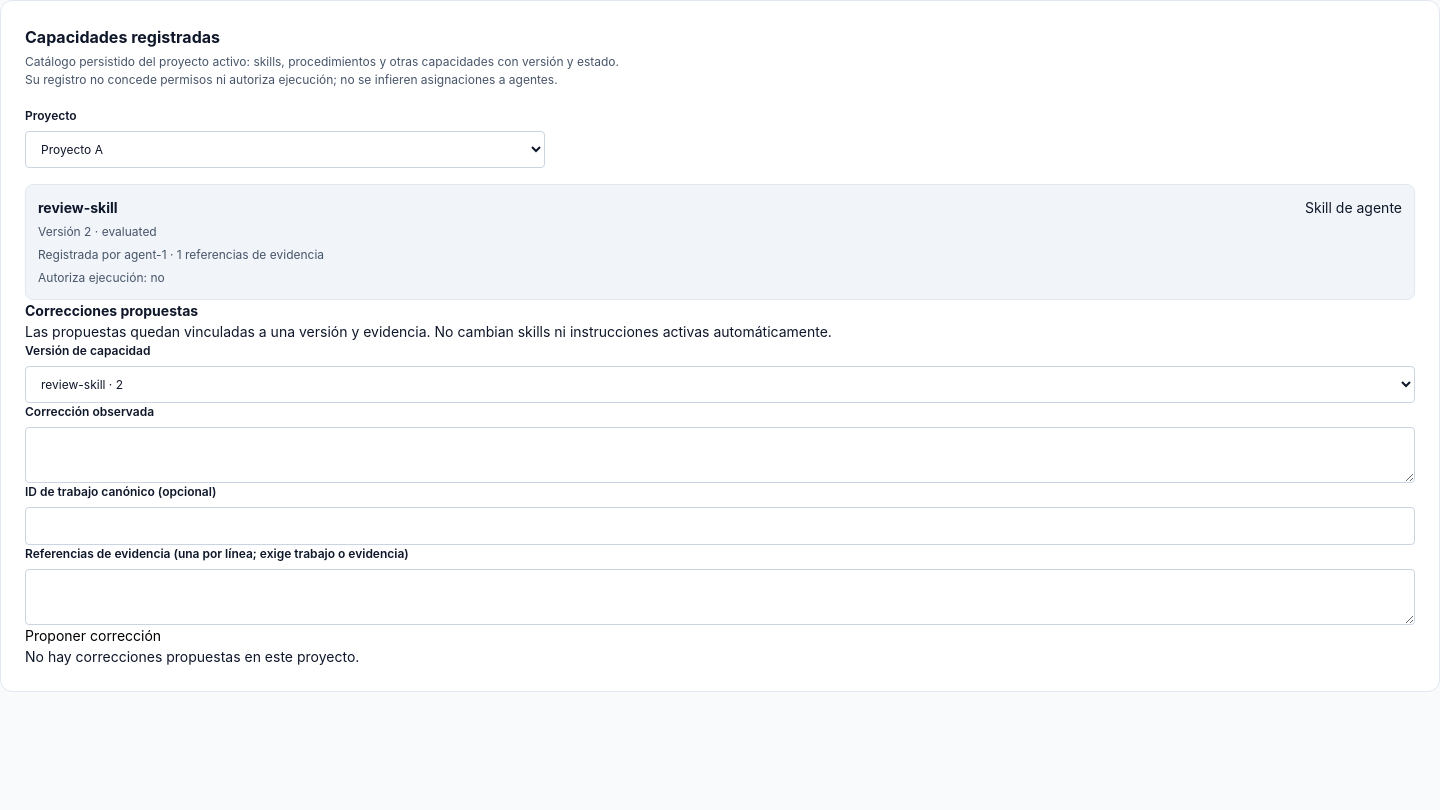
it: office capability catalog › reloads the canonical catalog when project selection changes
Expected: the text "review-skill" is shown, [38, 197, 118, 218]
Select "Proyecto B" in the dropdown named "Proyecto del catálogo de capacidades" at (285, 150), box [25, 131, 545, 168]
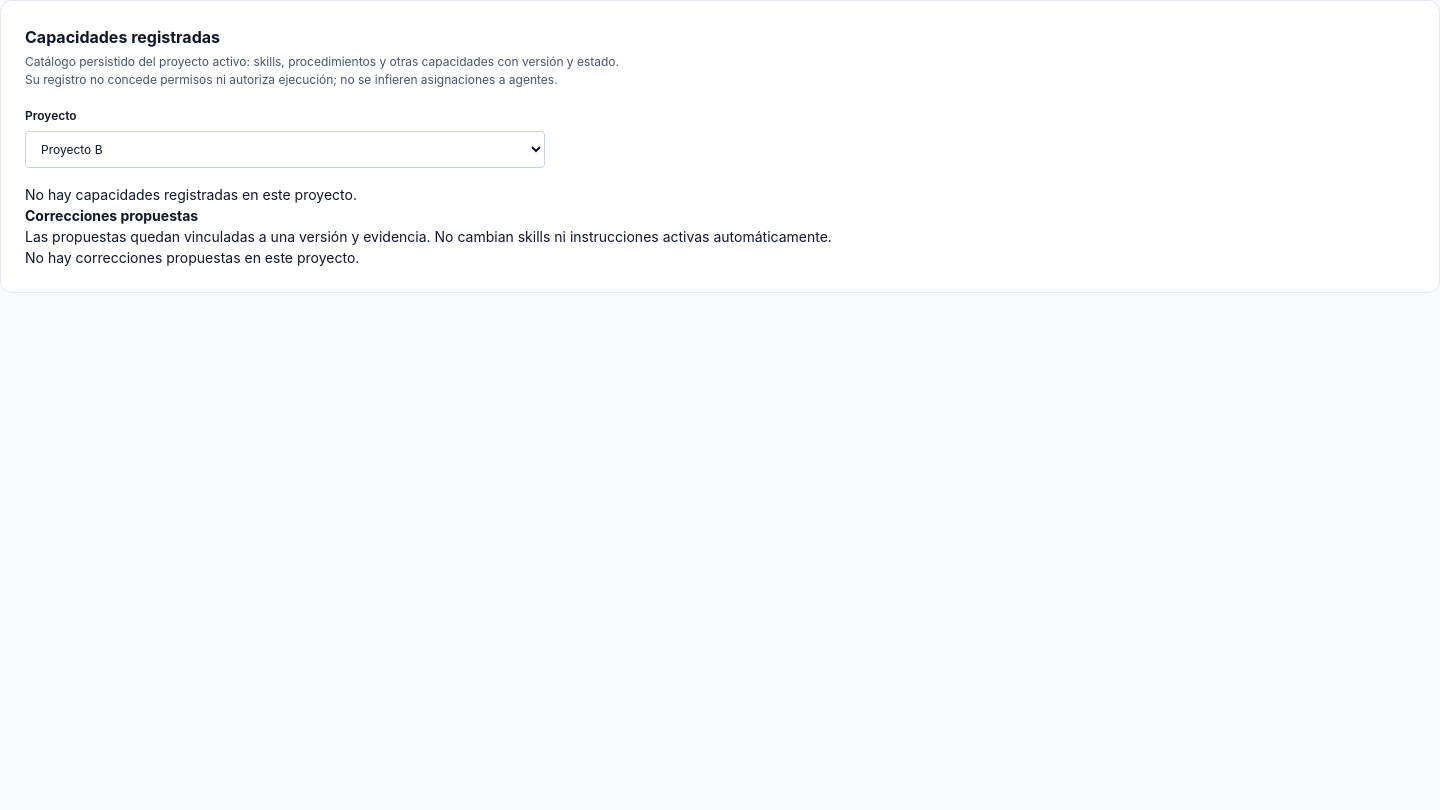
Expected: the text "No hay capacidades registradas en este proyecto." is shown, [25, 186, 357, 203]
